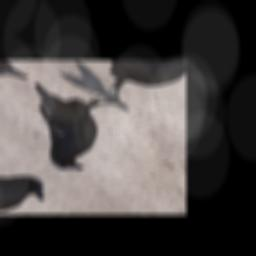Crow: (0, 63, 144, 180)
